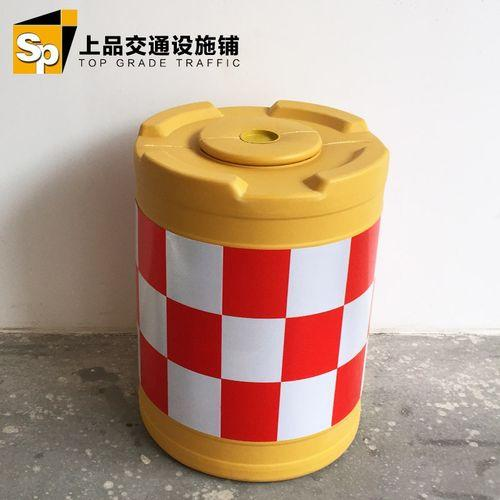sign: (112, 88, 381, 489)
